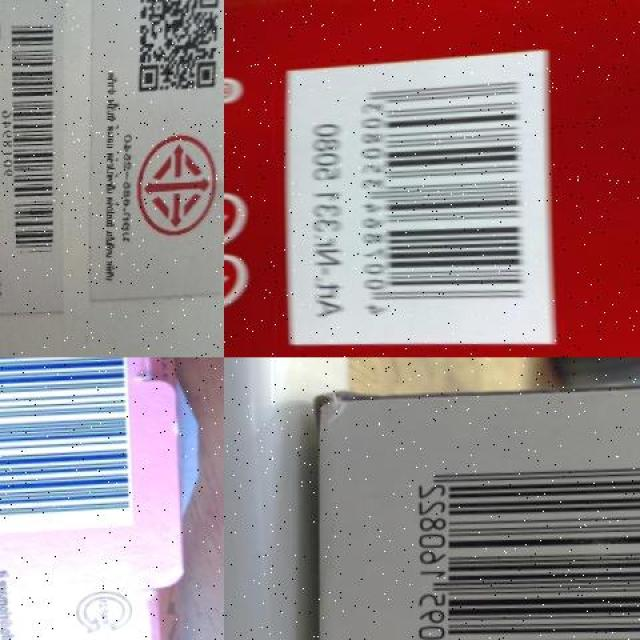Barcode: (284, 54, 556, 357), (393, 446, 639, 640), (0, 357, 132, 535), (0, 6, 61, 266)
